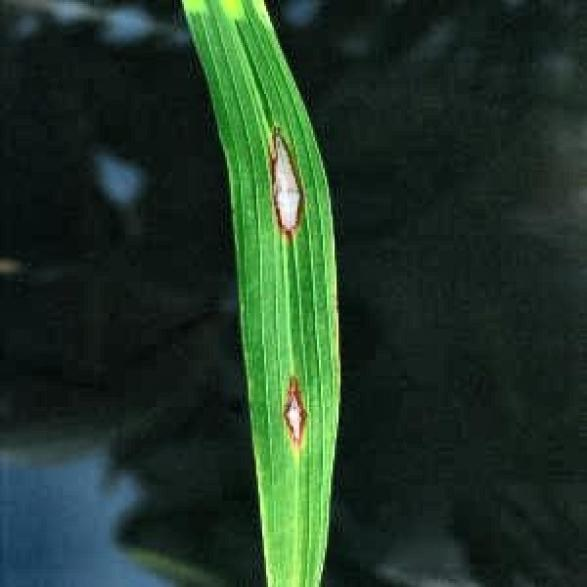Leaf_smut: (262, 348, 313, 480), (258, 112, 309, 243)
